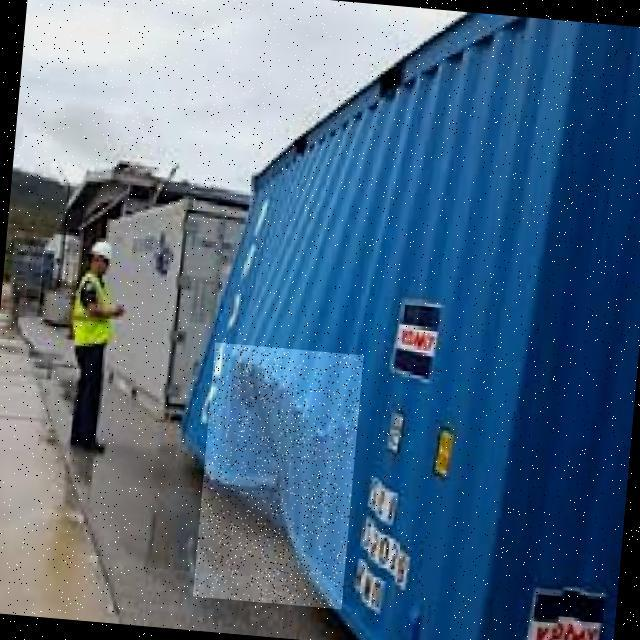Deframe: (193, 342, 364, 609)
